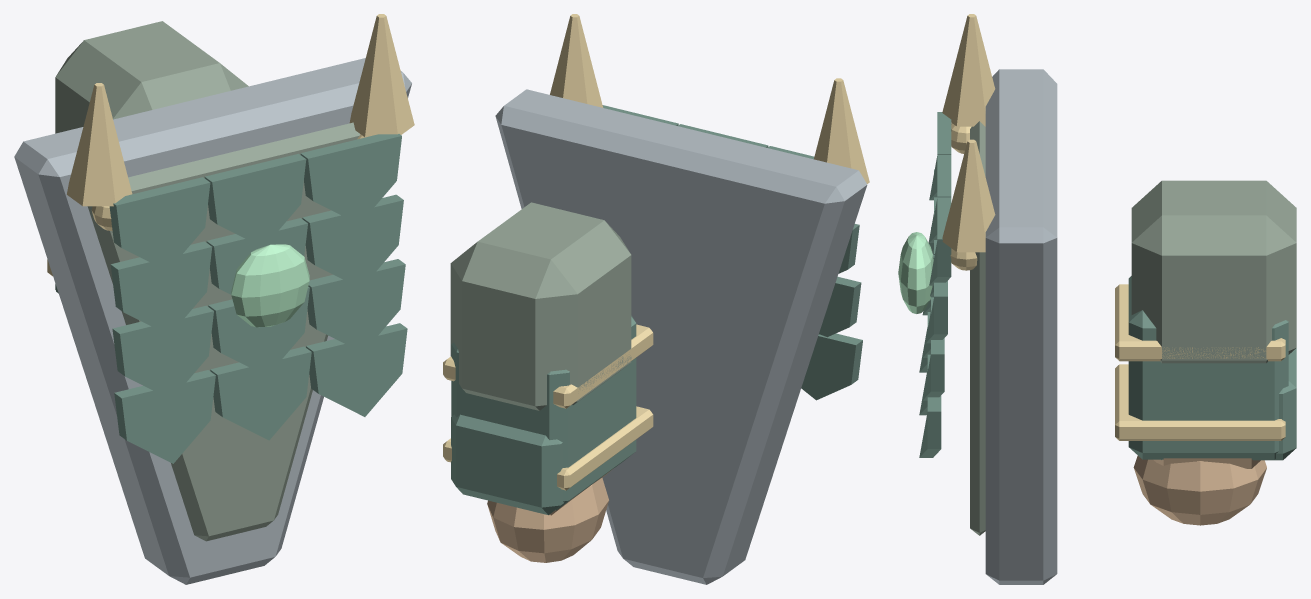
File: Dragon_Defender_LeftArm.fbx
The picture shows the model from 3 angles, left to right: view 1: azimuth 30°, elevation 25°; view 2: azimuth 150°, elevation 25°; view 3: azimuth 270°, elevation 25°; orthographic projection. The views are drawn at different scales.
Visible parts, largest first — view 1: Dragon_Defender_LeftArm; view 2: Dragon_Defender_LeftArm; view 3: Dragon_Defender_LeftArm.
Part boxes in pixels (x1,y1,x2,y2): Dragon_Defender_LeftArm: [14, 14, 414, 584]; Dragon_Defender_LeftArm: [443, 14, 869, 584]; Dragon_Defender_LeftArm: [898, 14, 1296, 584].
Bounding box in the file's own units: 71.5 × 98 × 72.38.
